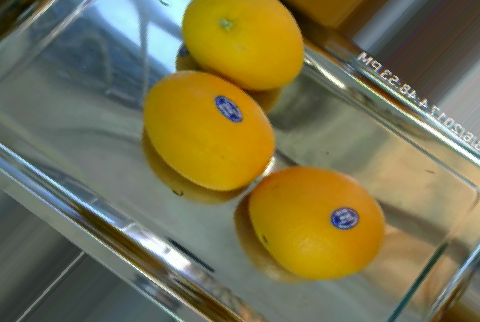Orange: (141, 70, 276, 191), (247, 166, 387, 279), (180, 0, 306, 90)
